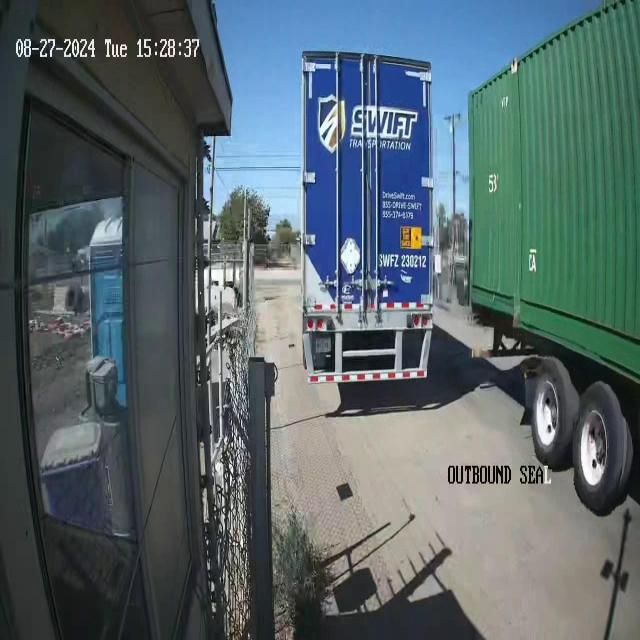TRUCK_IN: (300, 49, 435, 385)
